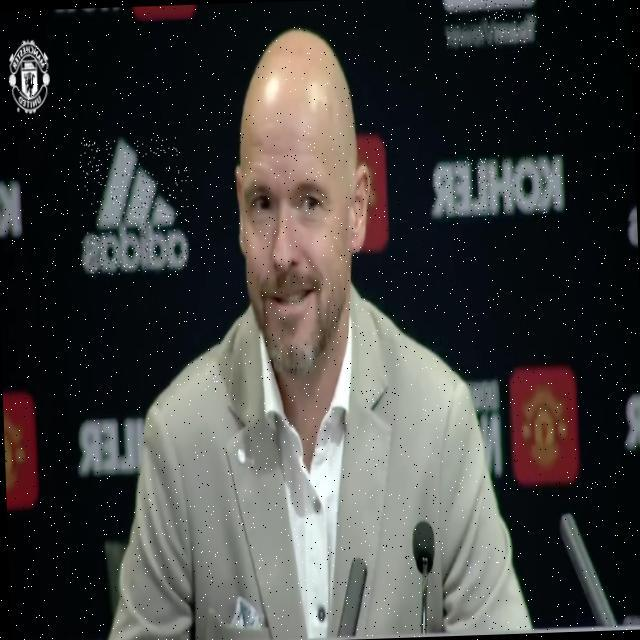Adidas: (78, 134, 191, 275)
Kohler: (431, 153, 565, 220)
TeamViewer: (442, 0, 536, 45)
